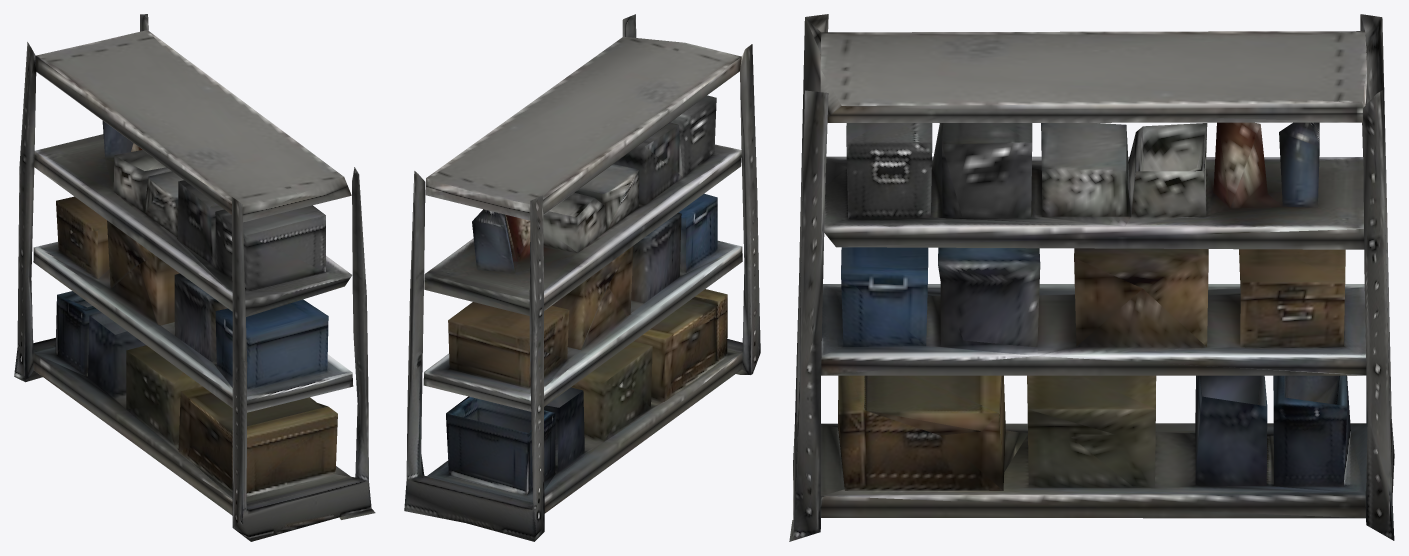
The model's file is tripo_convert_fcd0d2f6-2d02-42b9-9499-17f222434da1.fbx.
3 renders of one model, left to right at view 1: azimuth 30°, elevation 25°; view 2: azimuth 150°, elevation 25°; view 3: azimuth 270°, elevation 25°, orthographic. The views are drawn at different scales.
Visible parts, largest first — view 1: tripo_node_fcd0d2f6; view 2: tripo_node_fcd0d2f6; view 3: tripo_node_fcd0d2f6.
Part boxes in pixels (<box>): tripo_node_fcd0d2f6: <box>14,14,375,541</box>; tripo_node_fcd0d2f6: <box>404,14,760,541</box>; tripo_node_fcd0d2f6: <box>789,14,1394,541</box>.
Bounding box in the file's own units: 0.3322 × 0.8097 × 0.9962.
1 material, 1 textured.
